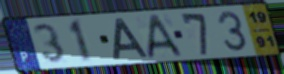1: (68, 17, 96, 65)
3: (32, 21, 67, 64), (216, 9, 249, 54)
7: (180, 12, 209, 57)
A: (146, 12, 185, 60), (112, 17, 150, 61)
